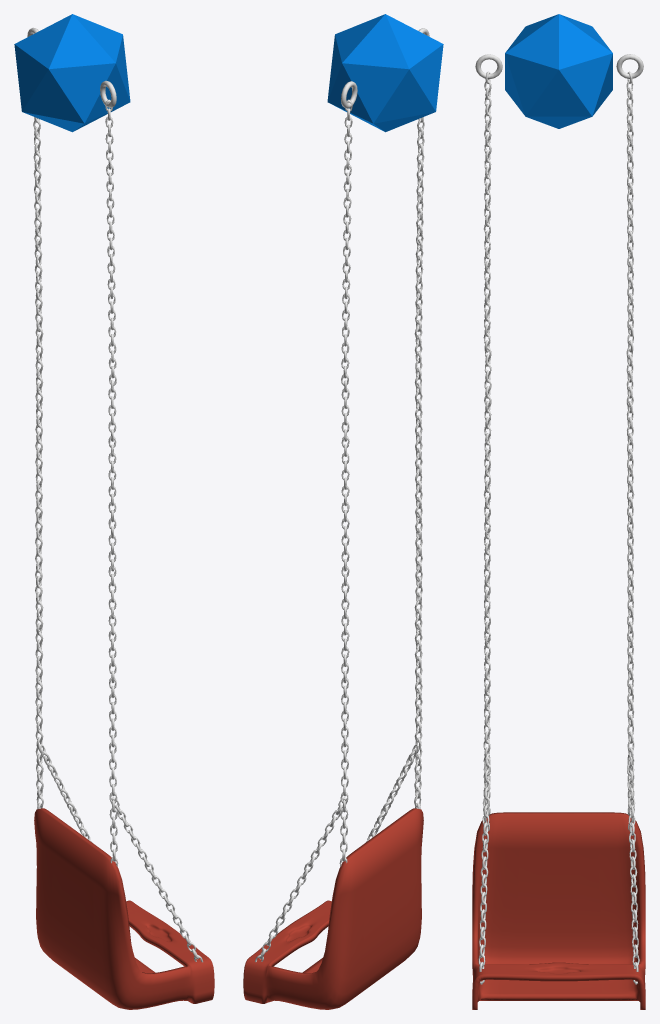
Rendered from Baby swing.glb.
3 views of the same model, side by side, from view 1: azimuth 30°, elevation 25°; view 2: azimuth 150°, elevation 25°; view 3: azimuth 270°, elevation 25° (orthographic). The views are drawn at different scales.
Parts seen in each view (by area): view 1: Plane.038, Joint.018, Torus.006; view 2: Plane.038, Joint.018, Torus.006; view 3: Plane.038, Torus.006, Joint.018, Torus.
Part boxes in pixels (bbox=[...]): Plane.038: bbox=[34, 808, 214, 1009]; Joint.018: bbox=[14, 14, 130, 132]; Torus.006: bbox=[33, 99, 203, 962]; Plane.038: bbox=[243, 808, 423, 1009]; Joint.018: bbox=[327, 14, 443, 132]; Torus.006: bbox=[255, 99, 424, 962]; Plane.038: bbox=[472, 812, 645, 1009]; Torus.006: bbox=[478, 71, 639, 984]; Joint.018: bbox=[505, 14, 612, 128]; Torus: bbox=[475, 54, 643, 79].
Size of the model in its own units: 0.4085 by 2.52 by 0.4157.
